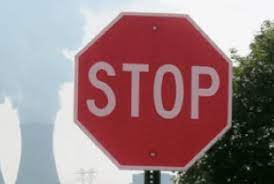stop: (61, 5, 244, 178)
